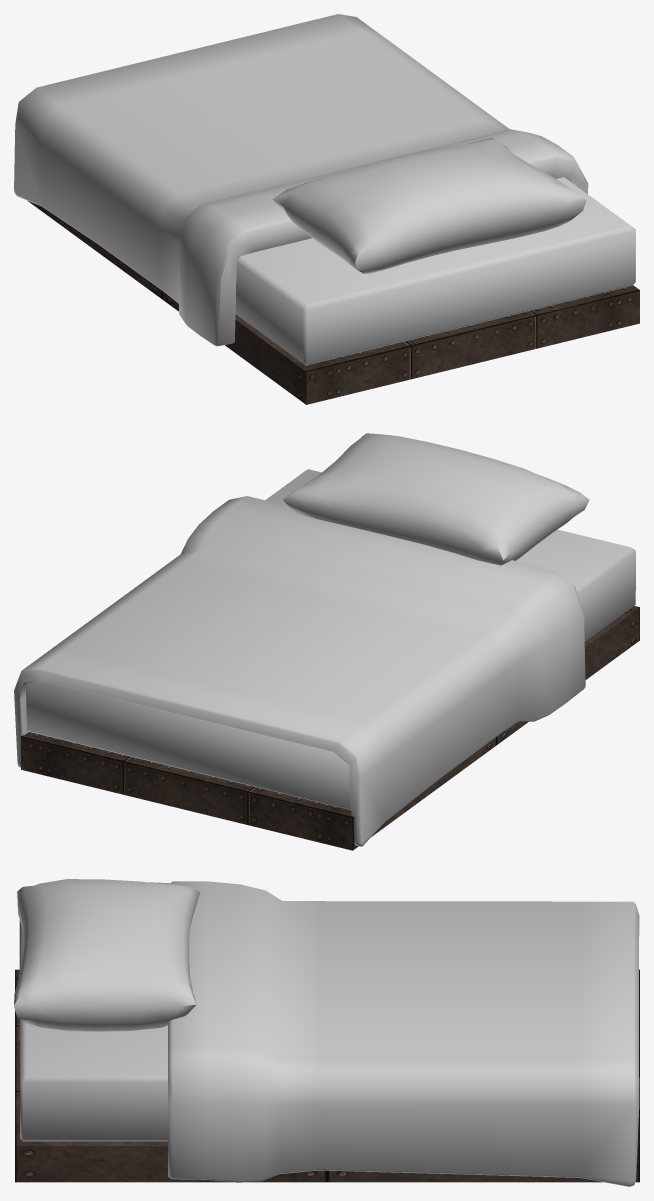
The model's file is Bedroom_Bed_Mini.fbx.
3 renders of one model, top to bottom at view 1: azimuth 30°, elevation 25°; view 2: azimuth 150°, elevation 25°; view 3: azimuth 270°, elevation 25°, orthographic. The views are drawn at different scales.
Parts seen in each view (by area): view 1: Bedroom_Bed_Mini; view 2: Bedroom_Bed_Mini; view 3: Bedroom_Bed_Mini.
Part boxes in pixels (left/top/right/bottom): Bedroom_Bed_Mini: left=14, top=14, right=639, bottom=404; Bedroom_Bed_Mini: left=14, top=433, right=639, bottom=850; Bedroom_Bed_Mini: left=14, top=879, right=639, bottom=1186.
Size of the model in its own units: 128 by 55.83 by 171.
